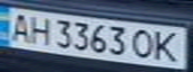3: (48, 17, 72, 50), (106, 24, 130, 57), (69, 19, 93, 52)
6: (87, 21, 109, 55)
A: (3, 10, 33, 43)
H: (24, 13, 54, 46)
K: (151, 28, 184, 64)
O: (127, 27, 157, 61)
